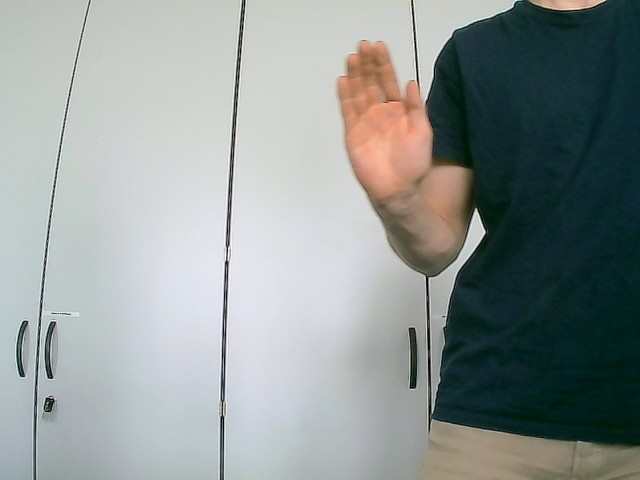stop: (335, 38, 435, 203)
